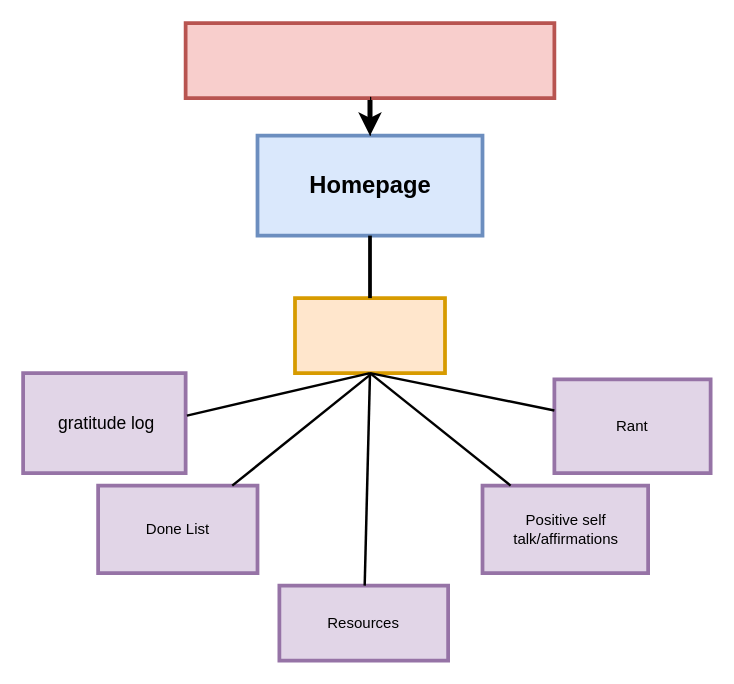
The diagram is 734 pixels wide and 684 high, and some of its shapes have lost their labels. Here are the shapes that lost their labels. From the top down, the centre of each, then its label:
At (x=369, y=60): "App".
At (x=369, y=335): "Nav Bar".
